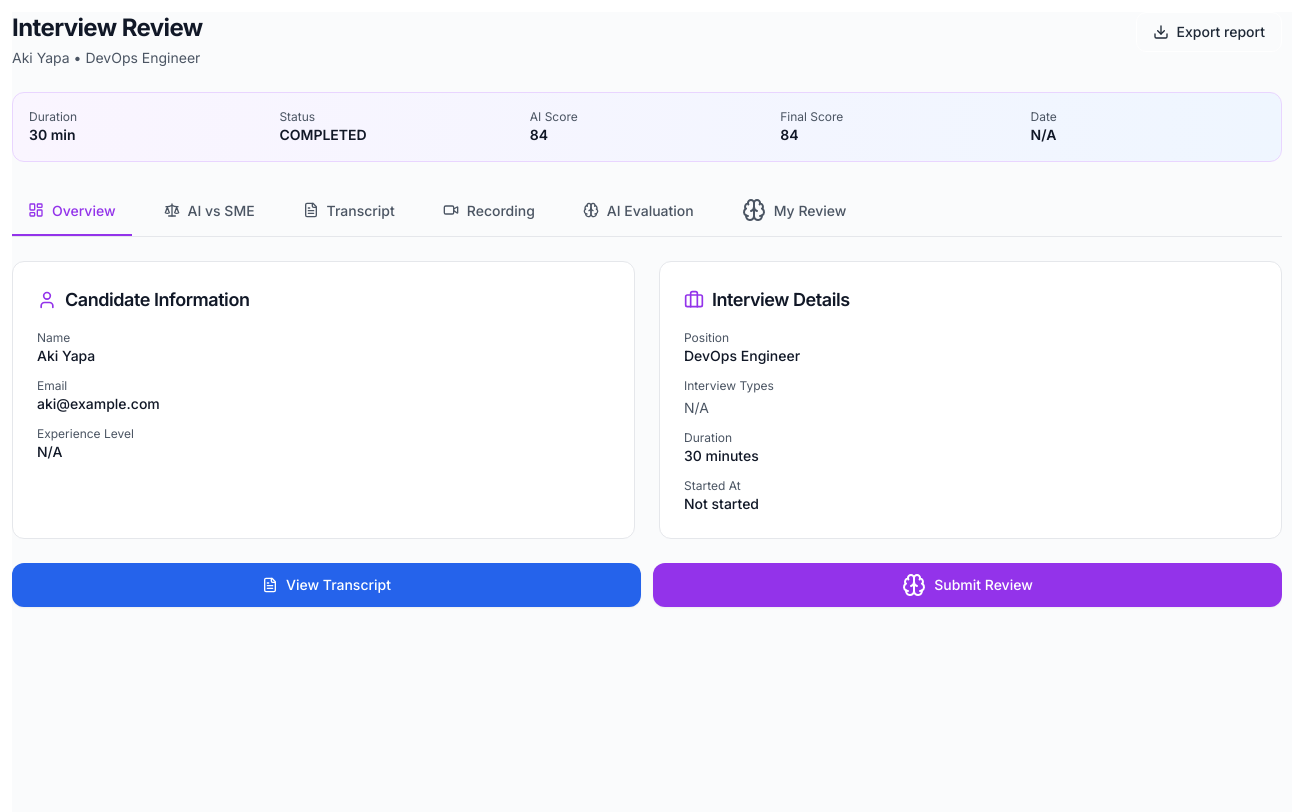
it: InterviewReviewEnhanced role experience › keeps export and SME override controls available for company admin users
The image size is (1292, 812).
Click the button "My Review".
click(794, 211)  # box 726,186 -> 862,236
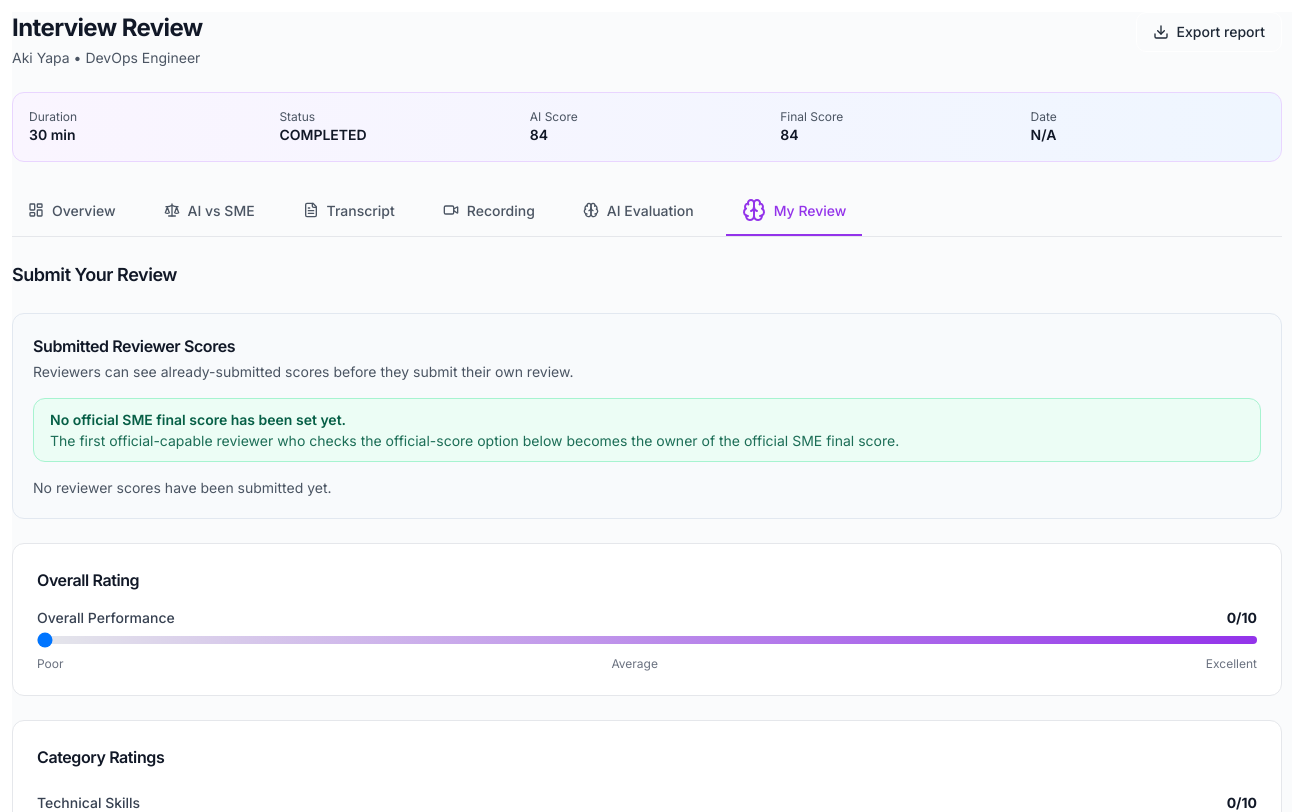
expect the button "Export report" is shown: met, box 1136,12 -> 1282,52
expect the text "No official SME final score has been set yet." is shown: met, box 50,411 -> 346,428
